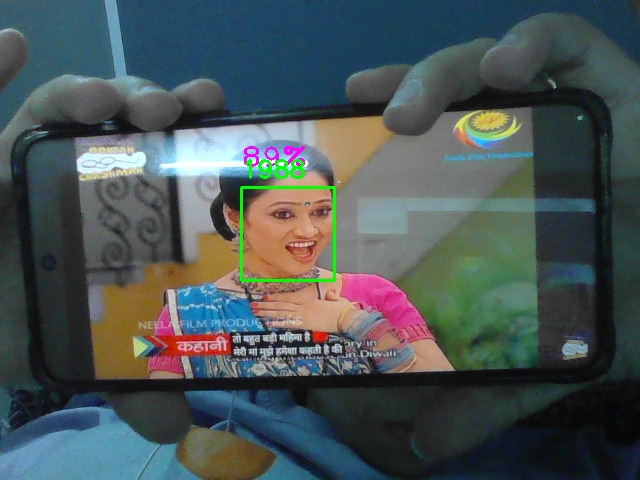fake: (241, 187, 335, 281)
